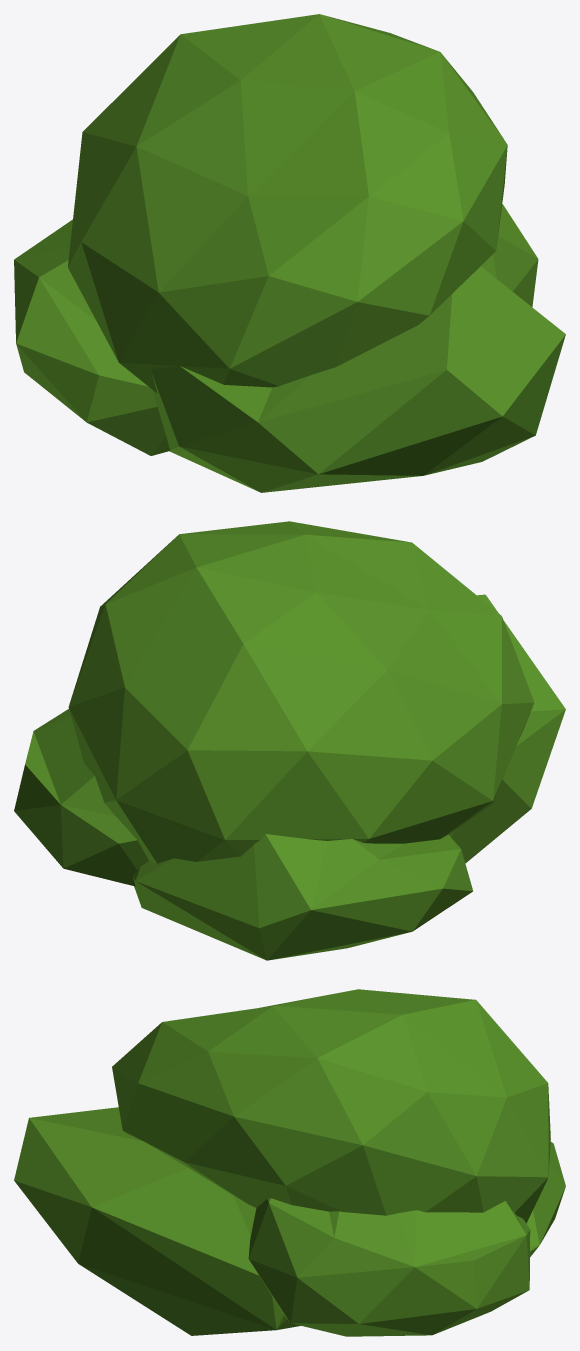
File: buisson_1_1.fbx
3 renders of one model, top to bottom at view 1: azimuth 30°, elevation 25°; view 2: azimuth 150°, elevation 25°; view 3: azimuth 270°, elevation 25°, orthographic. The views are drawn at different scales.
Visible parts, largest first — view 1: buisson_type1_1.001; view 2: buisson_type1_1.001; view 3: buisson_type1_1.001.
Part boxes in pixels (left/top/right/bottom): buisson_type1_1.001: left=14, top=14, right=565, bottom=492; buisson_type1_1.001: left=14, top=521, right=565, bottom=960; buisson_type1_1.001: left=14, top=989, right=565, bottom=1336.
Bounding box in the file's own units: 283 × 220 × 346.
